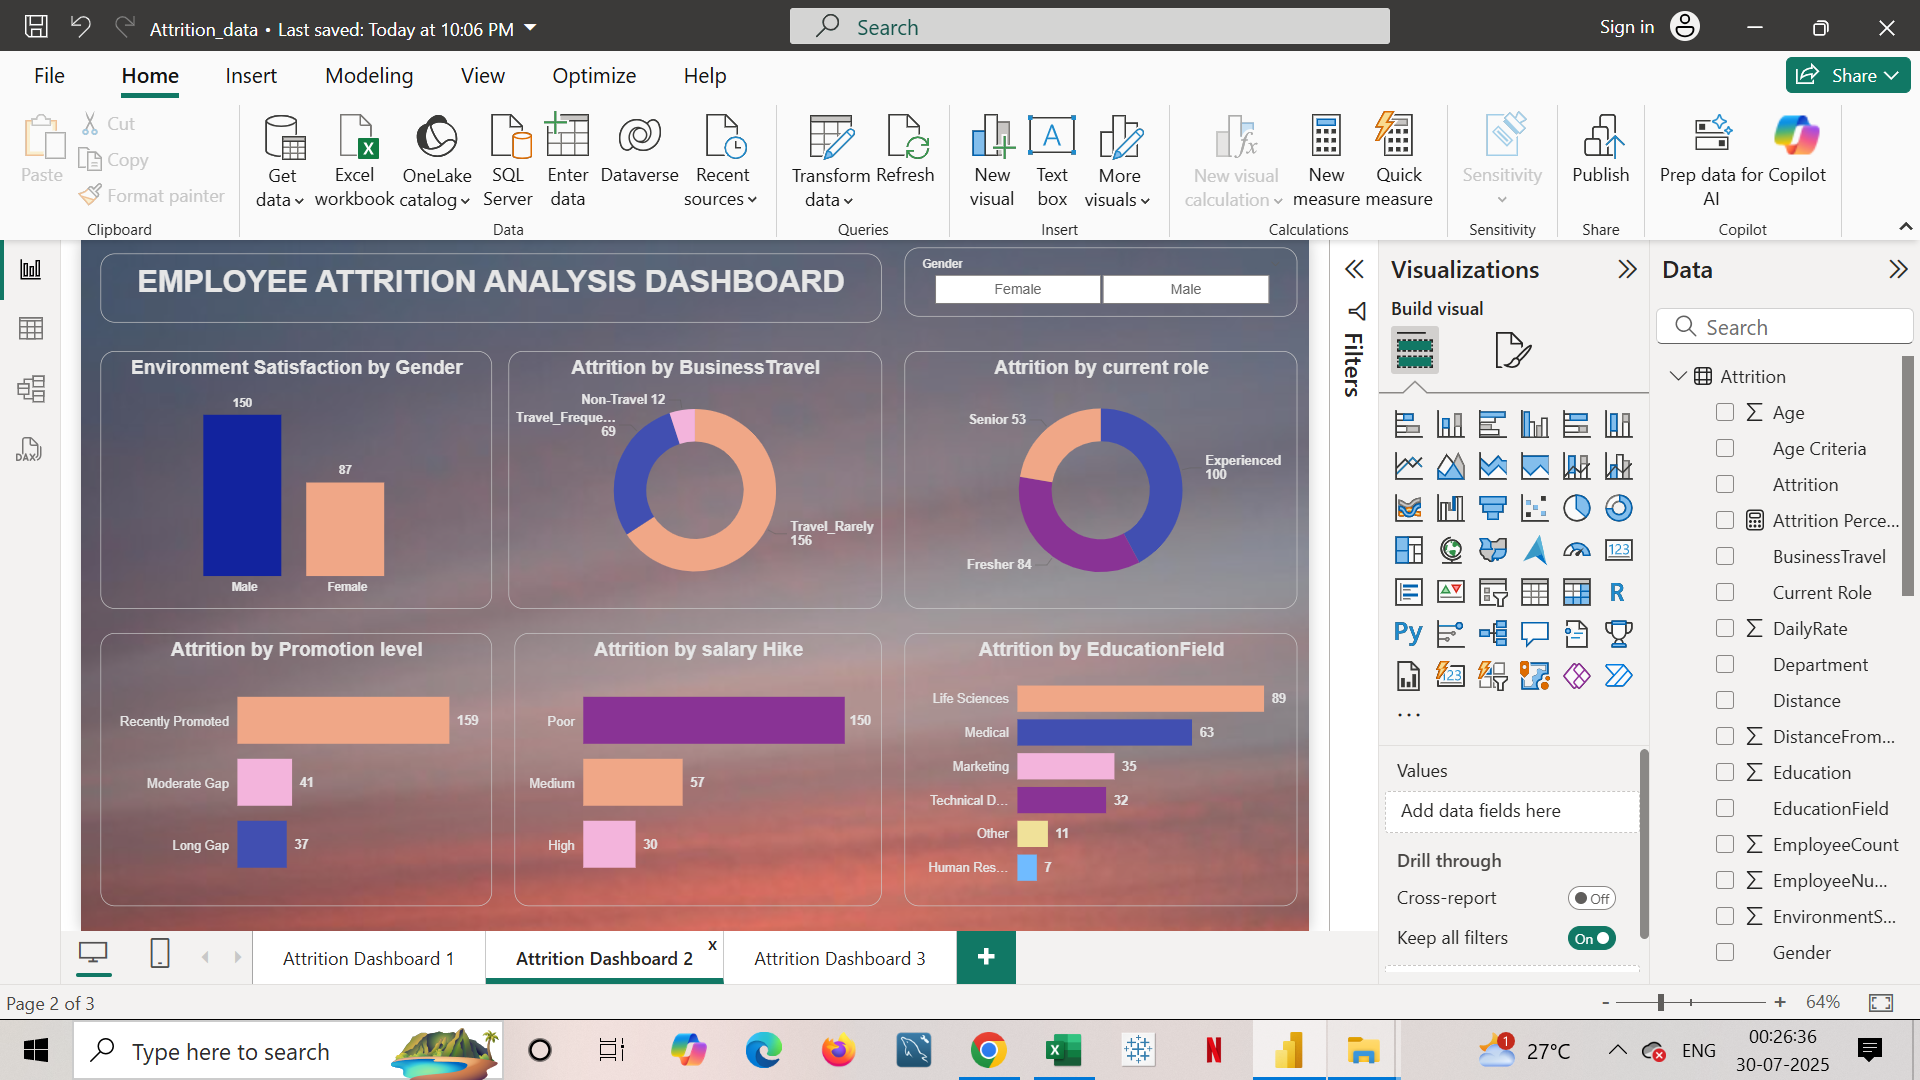

What the dashboard file says about the page in this screenshot:
{"tool":"powerbi","page":{"name":"Attrition Dashboard 2","canvas":[1280,720],"ordinal":1},"visuals":[{"type":"donutChart","title":"Attrition by BusinessTravel ","fields":{"Category":["Attrition.BusinessTravel"],"Y":["CountNonNull(Attrition.Attrition)"]},"box":[445.5,115.7,389.2,268.8],"z":0},{"type":"donutChart","title":"Attrition by current role","fields":{"Category":["Attrition.Current Role"],"Y":["CountNonNull(Attrition.EmployeeNumber)"]},"box":[858.1,115.7,409.5,268.8],"z":1000},{"type":"clusteredBarChart","title":"Attrition by Promotion level","fields":{"Category":["Attrition.Promotion Level"],"Y":["CountNonNull(Attrition.EmployeeNumber)"]},"box":[20.3,409.5,407.9,284.5],"z":2000},{"type":"barChart","title":"Attrition by salary Hike","fields":{"Category":["Attrition.SalaryHike"],"Y":["CountNonNull(Attrition.EmployeeNumber)"]},"box":[451.7,409.5,382.9,284.5],"z":3000},{"type":"clusteredBarChart","title":"Attrition by EducationField","fields":{"Category":["Attrition.EducationField"],"Y":["CountNonNull(Attrition.EmployeeNumber)"]},"box":[858.1,409.5,409.5,284.5],"z":4000},{"type":"textbox","box":[20.3,14.1,814.3,71.9],"z":5000},{"type":"clusteredColumnChart","title":" Environment Satisfaction by Gender","fields":{"Category":["Attrition.Gender"],"Y":["CountNonNull(Attrition.EnvironmentSatisfaction)"]},"box":[20.3,115.7,407.9,268.8],"z":6000},{"type":"slicer","fields":{"Values":["Attrition.Gender"]},"box":[858.1,7.8,409.5,71.9],"z":7000}]}

Visuals, with their boxes on the page's 1280x720 design canvas (x1, y1, x2, y2). These are canvas units, not pixel positions in the 1920x1080 screenshot, which may show the page scaled, cropped or inside an application window:
"Attrition by BusinessTravel " donutChart: [446,116,835,384]
"Attrition by current role" donutChart: [858,116,1268,384]
"Attrition by Promotion level" clusteredBarChart: [20,410,428,694]
"Attrition by salary Hike" barChart: [452,410,835,694]
"Attrition by EducationField" clusteredBarChart: [858,410,1268,694]
textbox: [20,14,835,86]
" Environment Satisfaction by Gender" clusteredColumnChart: [20,116,428,384]
slicer - Attrition.Gender: [858,8,1268,80]
